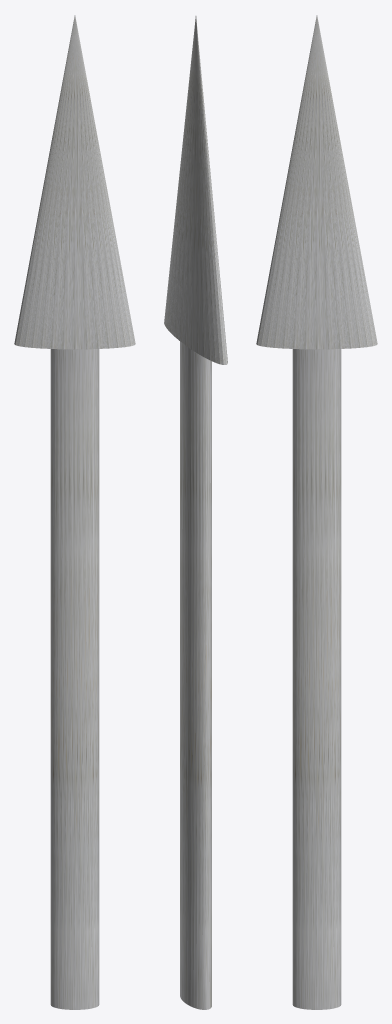
Rendered from arw_m.obj.
3 views of the same model, side by side, from view 1: azimuth 90°, elevation 25°; view 2: azimuth 210°, elevation 25°; view 3: azimuth 270°, elevation 25° (orthographic).
Visible parts, largest first — view 1: Cone; view 2: Cone; view 3: Cone.
Boxes of the visible parts, x1=… form: Cone: x1=14, y1=15, x2=135, y2=1009; Cone: x1=164, y1=16, x2=227, y2=1009; Cone: x1=256, y1=15, x2=377, y2=1009.
Bounding box in the file's own units: 0.2 × 9 × 1.
Materials: 1 (1 with a texture image).
